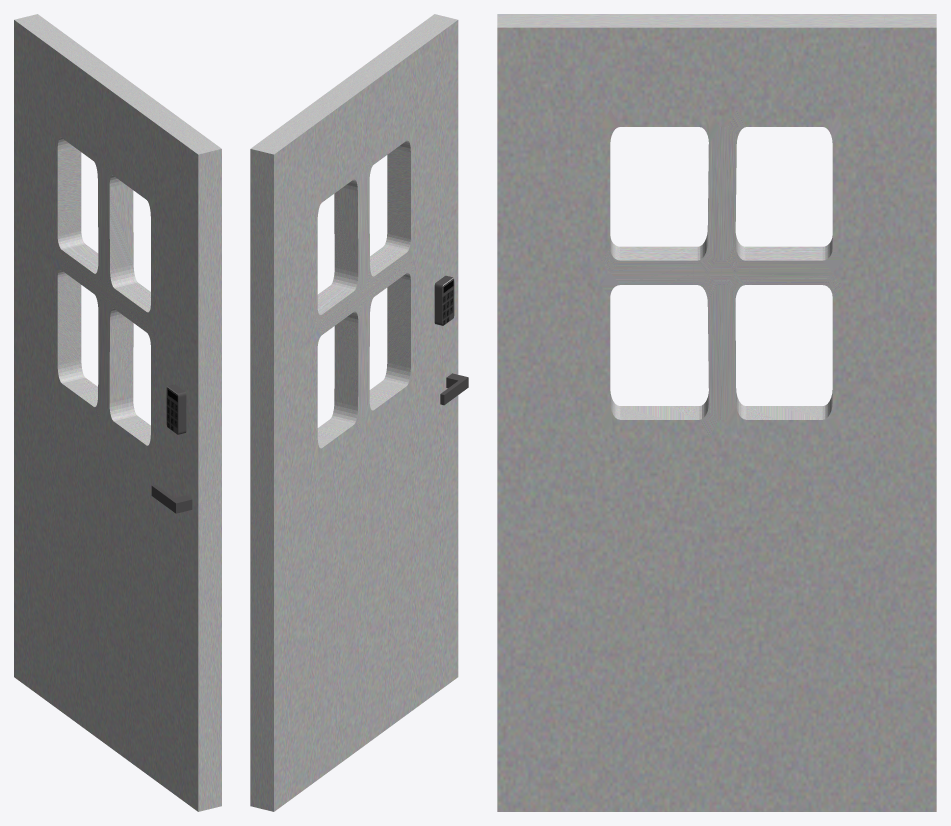
File: Door.fbx
3 views of the same model, side by side, from view 1: azimuth 30°, elevation 25°; view 2: azimuth 150°, elevation 25°; view 3: azimuth 270°, elevation 25° (orthographic). The views are drawn at different scales.
Parts seen in each view (by area): view 1: Cube; view 2: Cube; view 3: Cube.
Part boxes in pixels (bbox=[...]): Cube: bbox=[14, 14, 221, 811]; Cube: bbox=[250, 14, 468, 811]; Cube: bbox=[497, 14, 936, 811].
Size of the model in its own units: 75.94 by 1194 by 607.
